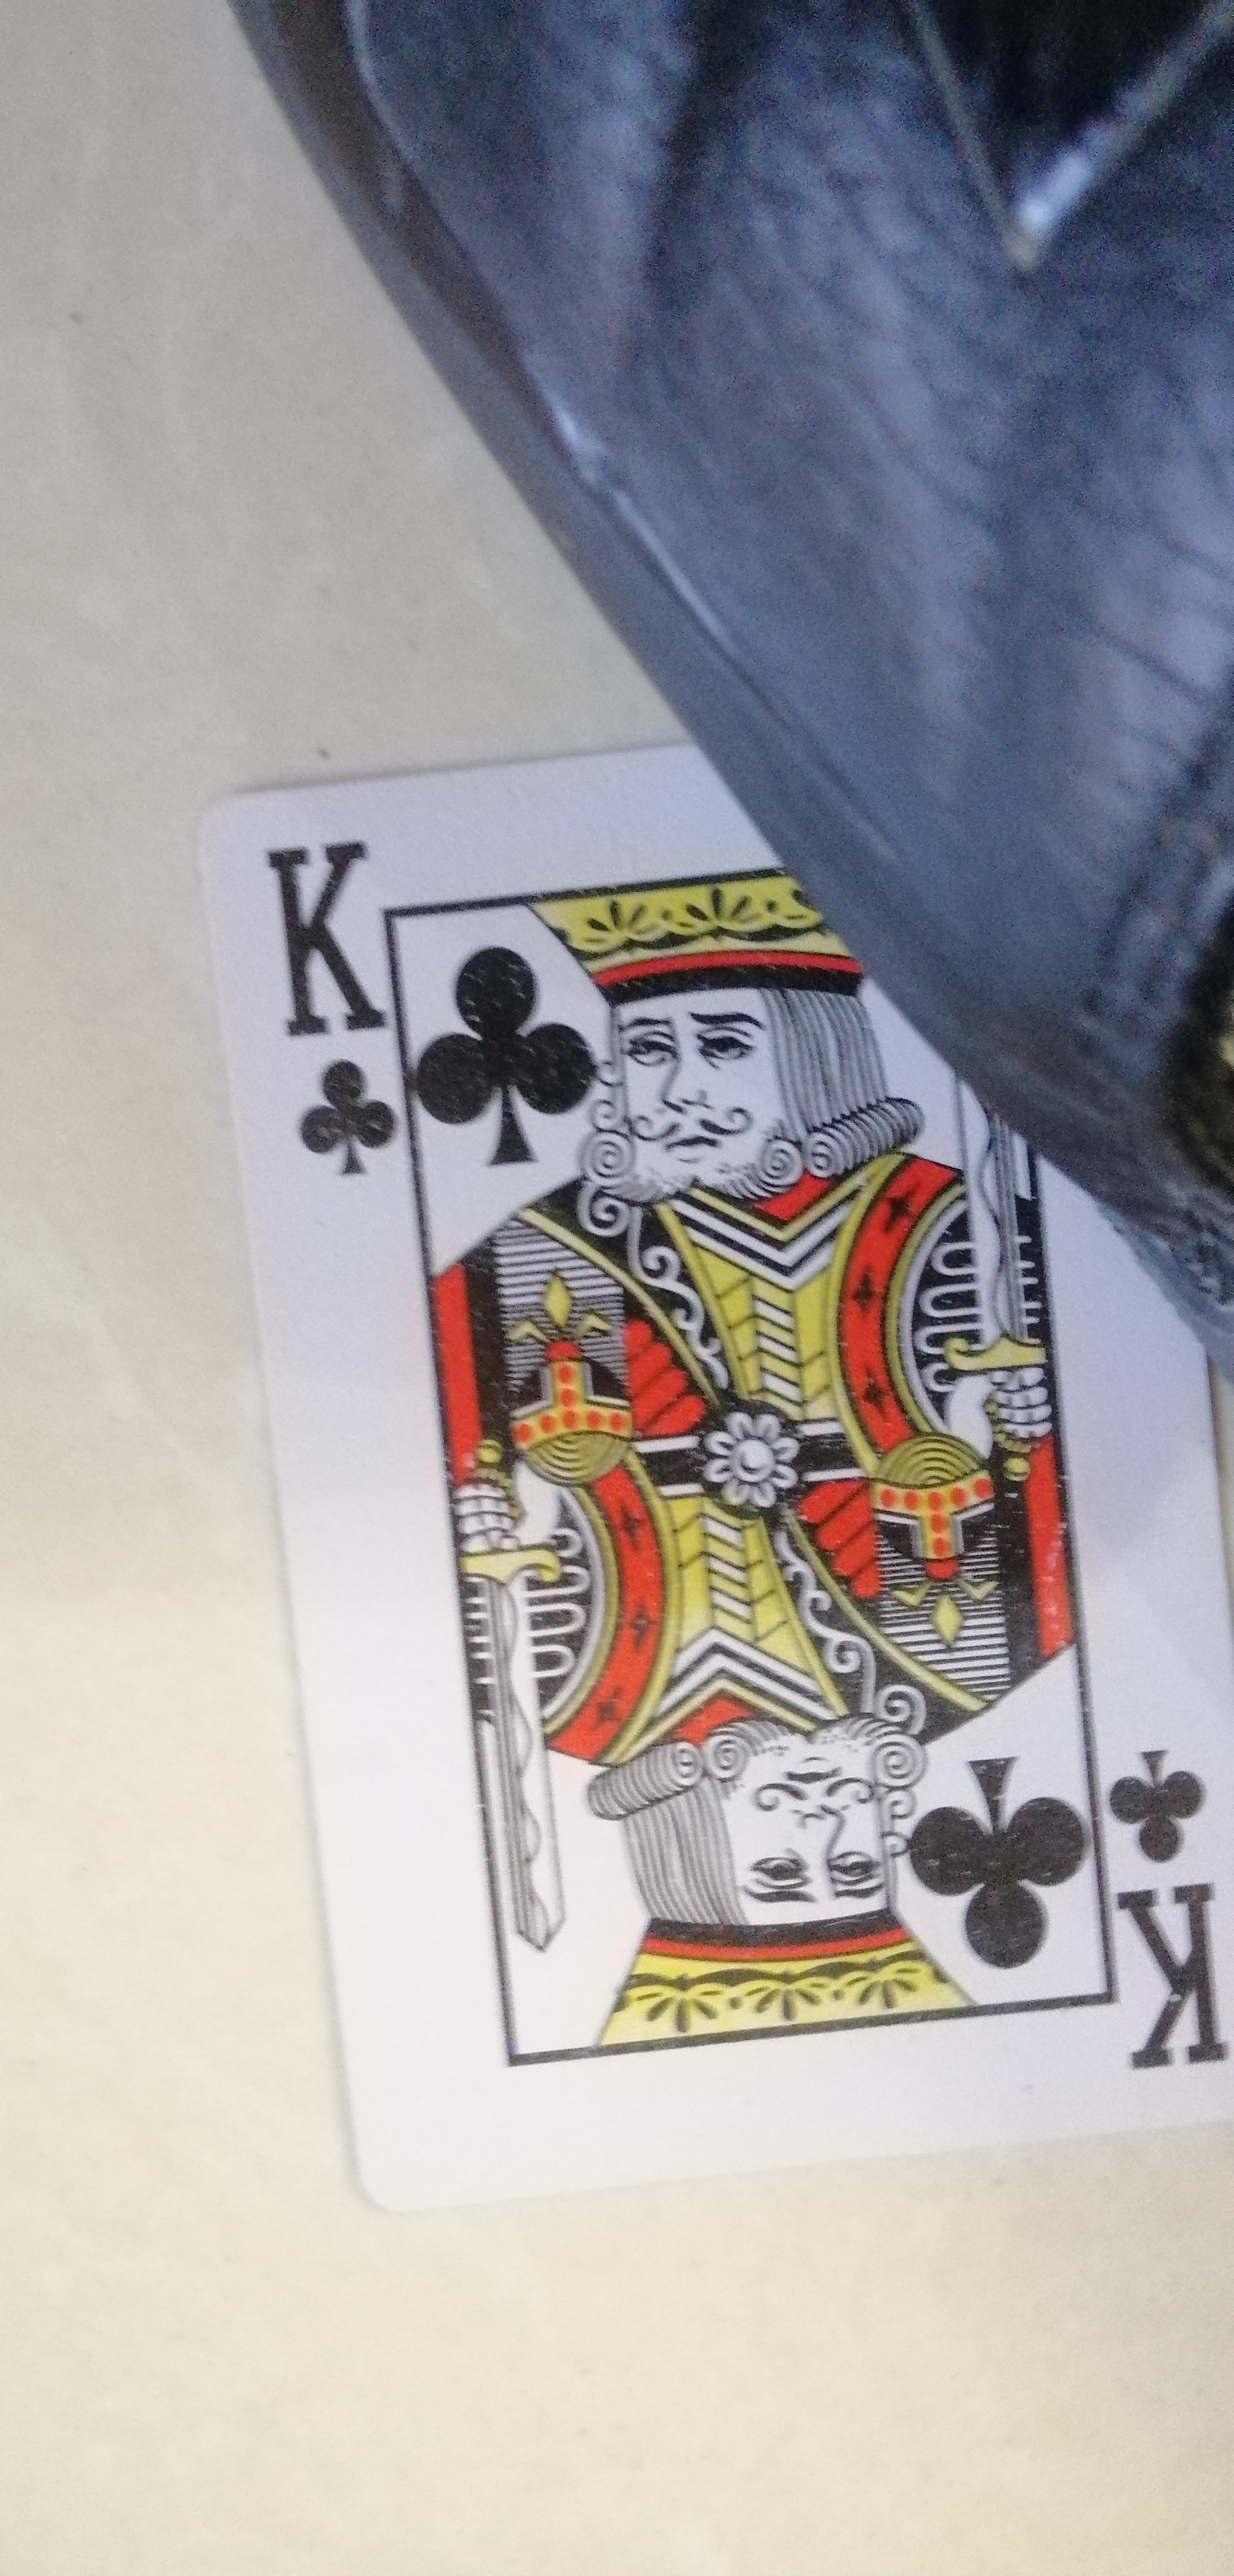king: (202, 715, 1234, 2141)
